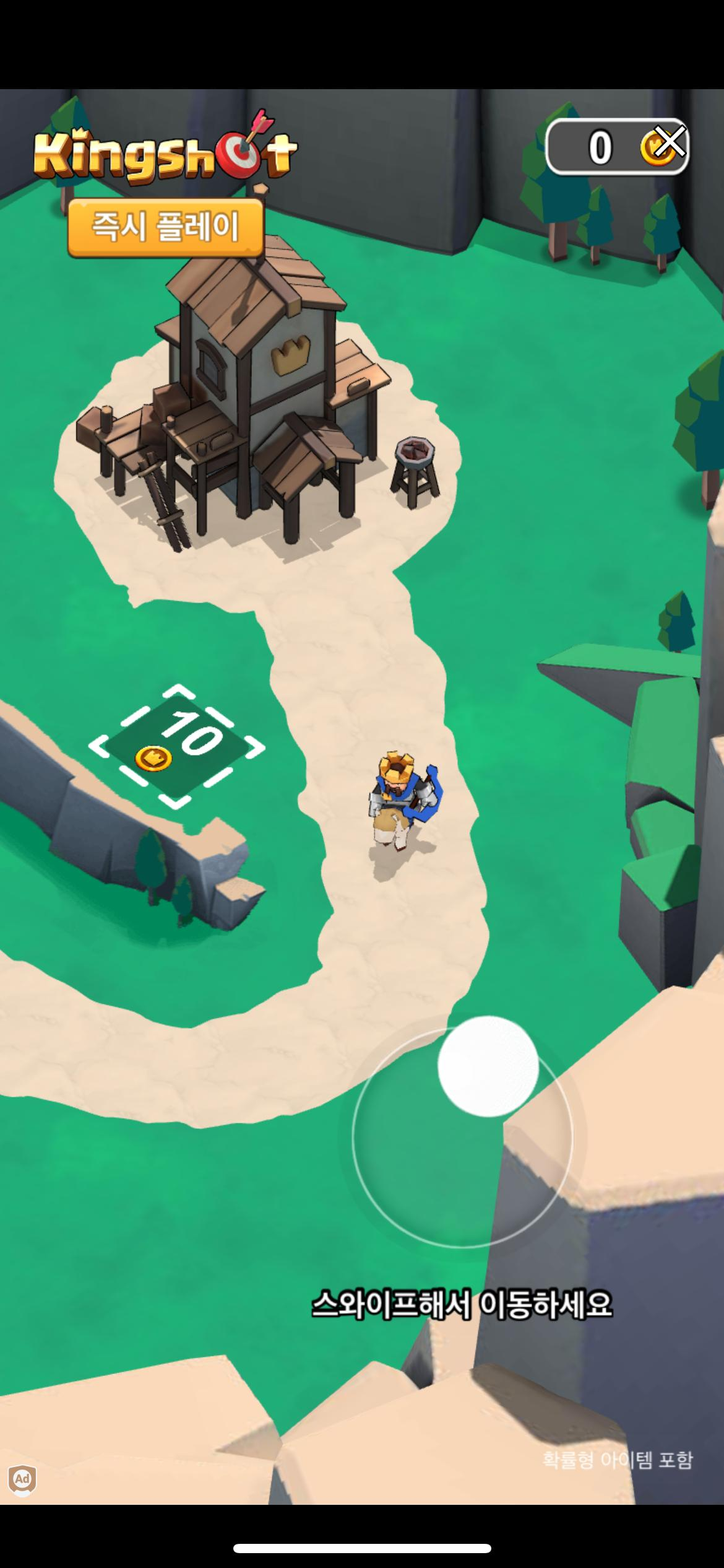button: (635, 108, 713, 181)
popup: (0, 79, 724, 1509)
